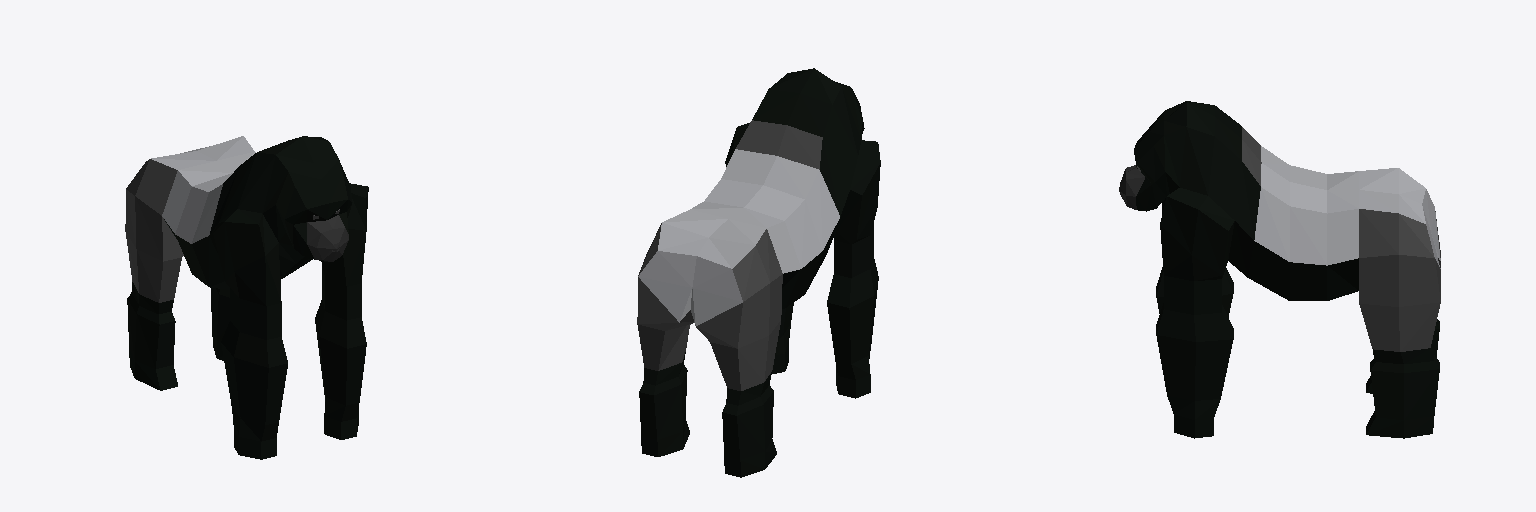
3 views of the same model, side by side, from view 1: azimuth 30°, elevation 25°; view 2: azimuth 150°, elevation 25°; view 3: azimuth 270°, elevation 25° (orthographic).
Visible parts, largest first — view 1: Geo_Gorilla; view 2: Geo_Gorilla; view 3: Geo_Gorilla.
Boxes of the visible parts, x1,y1,x2,y2 form: Geo_Gorilla: [125, 136, 368, 459]; Geo_Gorilla: [637, 68, 880, 477]; Geo_Gorilla: [1119, 101, 1440, 438].
Size of the model in its own units: 76.84 by 157 by 149.
1 materials, 1 textured.